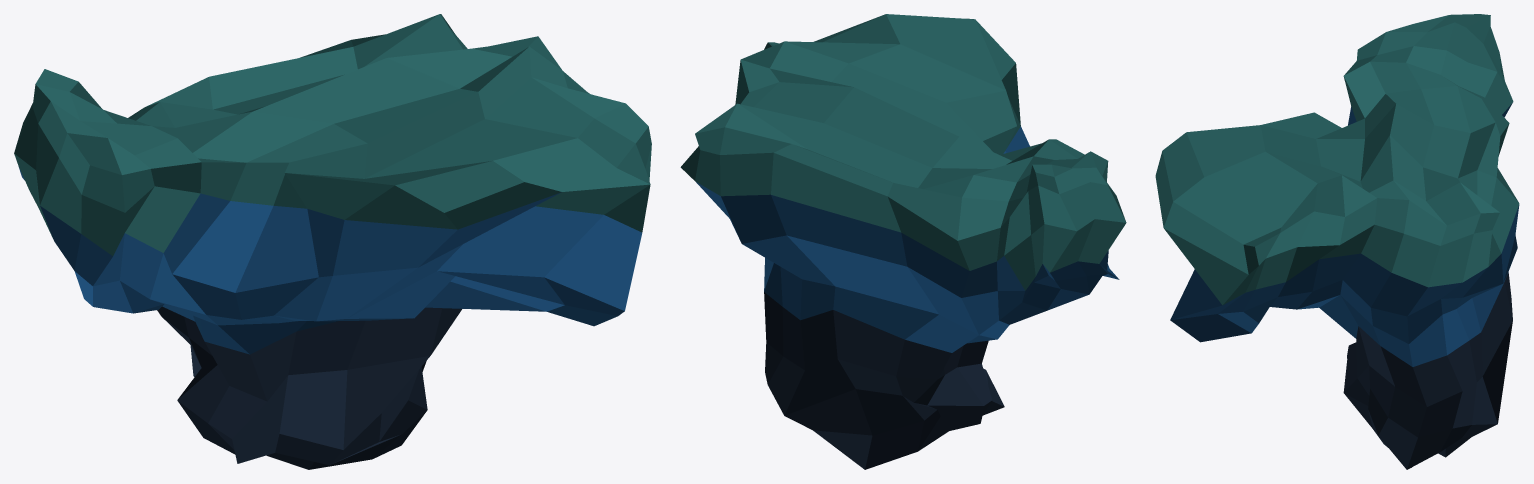
The model's file is rock008.FBX.
3 views of the same model, side by side, from view 1: azimuth 30°, elevation 25°; view 2: azimuth 150°, elevation 25°; view 3: azimuth 270°, elevation 25° (orthographic). The views are drawn at different scales.
Visible parts, largest first — view 1: rock_008; view 2: rock_008; view 3: rock_008.
Boxes of the visible parts, <box> form: rock_008: <box>14,14,651,469</box>; rock_008: <box>680,14,1126,469</box>; rock_008: <box>1155,14,1519,469</box>.
Size of the model in its own units: 14.14 by 11.24 by 10.58.
